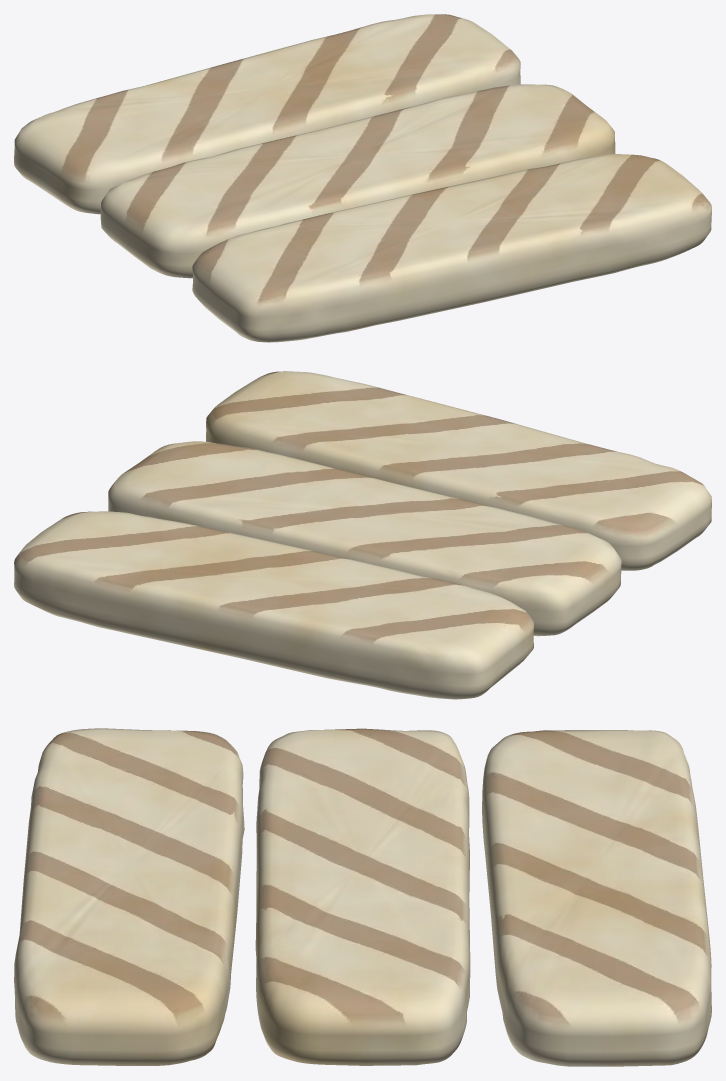
File: filling_paneer.glb
3 views of the same model, one above another, from view 1: azimuth 30°, elevation 25°; view 2: azimuth 150°, elevation 25°; view 3: azimuth 270°, elevation 25° (orthographic). The views are drawn at different scales.
Parts seen in each view (by area): view 1: EX_Filling_paneer; view 2: EX_Filling_paneer; view 3: EX_Filling_paneer.
Boxes of the visible parts, x1,y1,x2,y2 form: EX_Filling_paneer: (14,14,711,342); EX_Filling_paneer: (14,371,711,699); EX_Filling_paneer: (14,728,711,1066).
Bounding box in the file's own units: 0.0846 × 0.00941 × 0.0851.
1 material, 1 textured.
